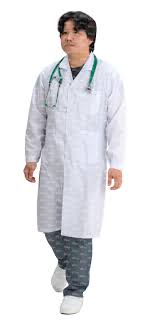hand: (21, 161, 38, 185), (107, 167, 123, 192)
